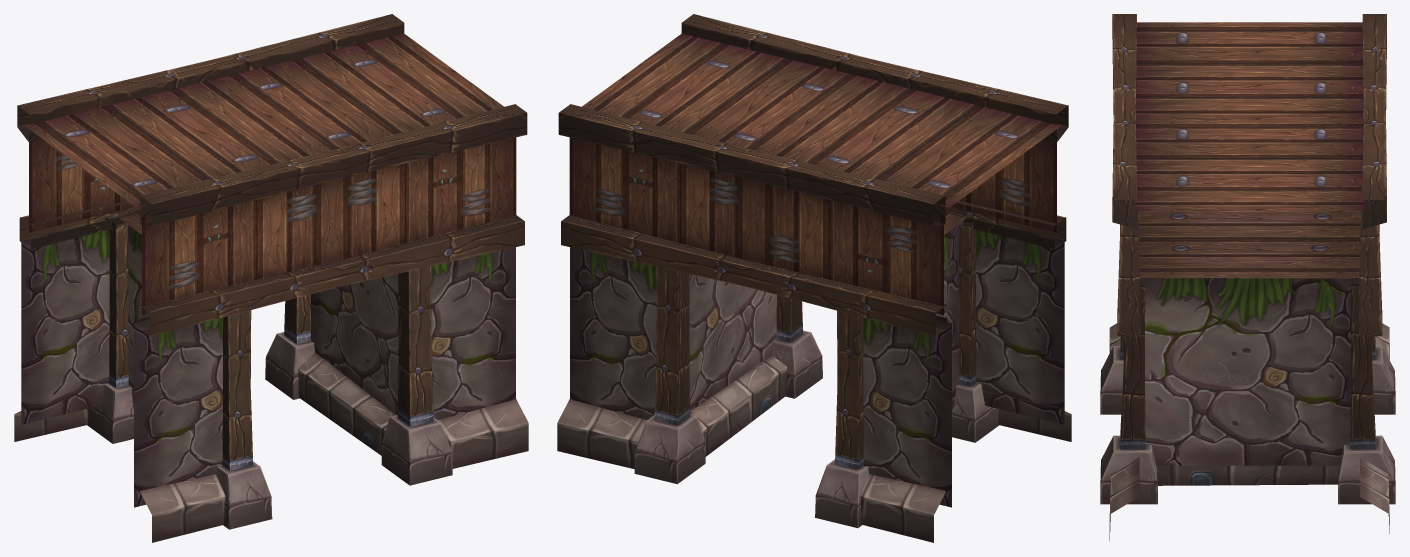
Rendered from big_wall_gates.fbx.
3 views of the same model, side by side, from view 1: azimuth 30°, elevation 25°; view 2: azimuth 150°, elevation 25°; view 3: azimuth 270°, elevation 25° (orthographic).
Parts seen in each view (by area): view 1: big_wall_gates; view 2: big_wall_gates; view 3: big_wall_gates.
Part boxes in pixels (bbox=[...]): big_wall_gates: bbox=[14, 14, 528, 542]; big_wall_gates: bbox=[557, 14, 1071, 542]; big_wall_gates: bbox=[1100, 14, 1395, 540].
Bounding box in the file's own units: 11.17 × 9.45 × 7.34.
